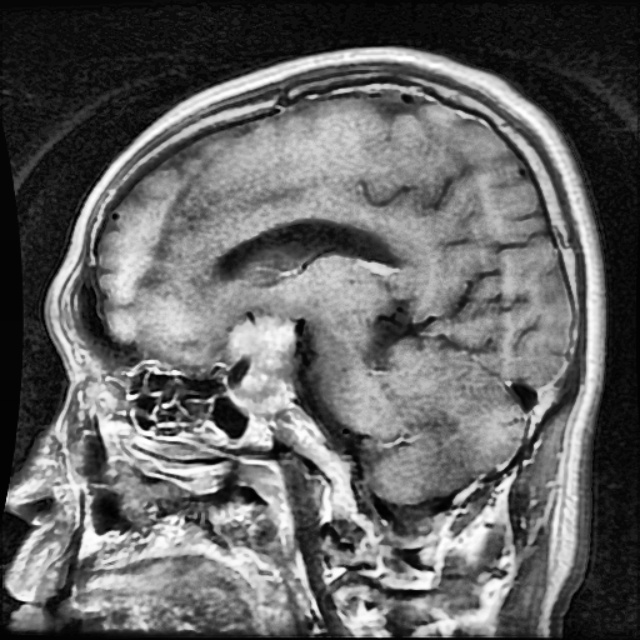Pituitary: (224, 313, 297, 418)
